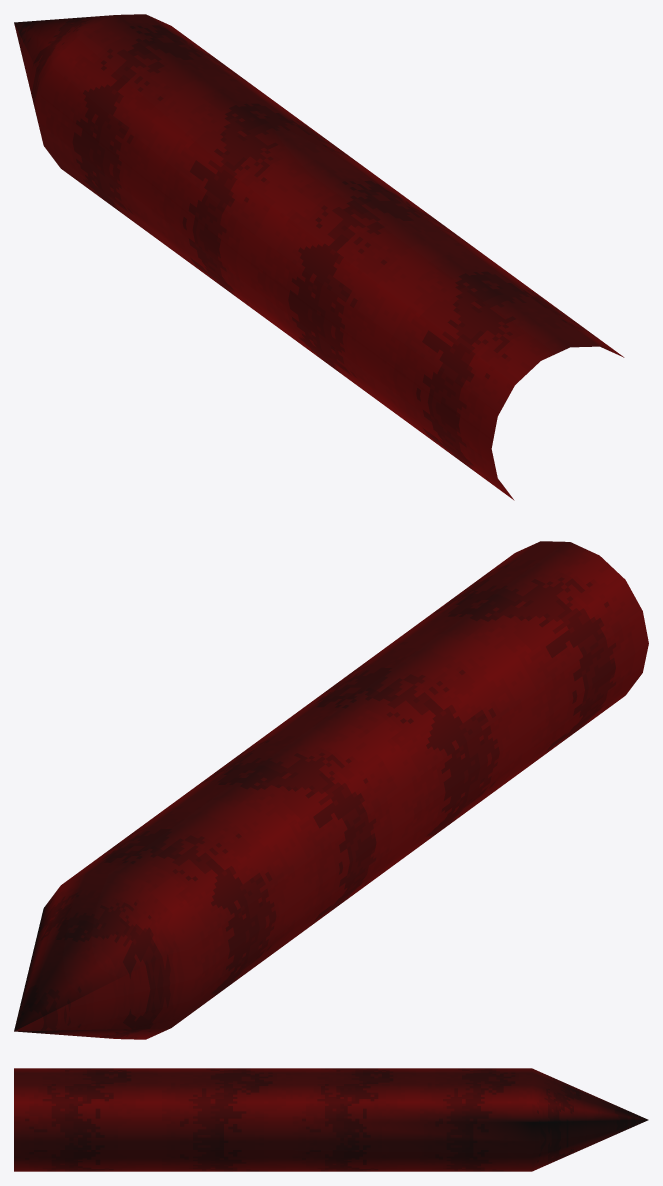
The model's file is main.glb.
The picture shows the model from 3 angles, top to bottom: view 1: azimuth 30°, elevation 25°; view 2: azimuth 150°, elevation 25°; view 3: azimuth 270°, elevation 25°; orthographic projection. The views are drawn at different scales.
Parts seen in each view (by area): view 1: object_000; view 2: object_000; view 3: object_000.
Boxes of the visible parts, bbox=[...] form: object_000: bbox=[14, 14, 624, 500]; object_000: bbox=[14, 541, 648, 1039]; object_000: bbox=[14, 1068, 648, 1171].
Bounding box in the file's own units: 128 × 128 × 784.
Materials: 1 (1 with a texture image).
